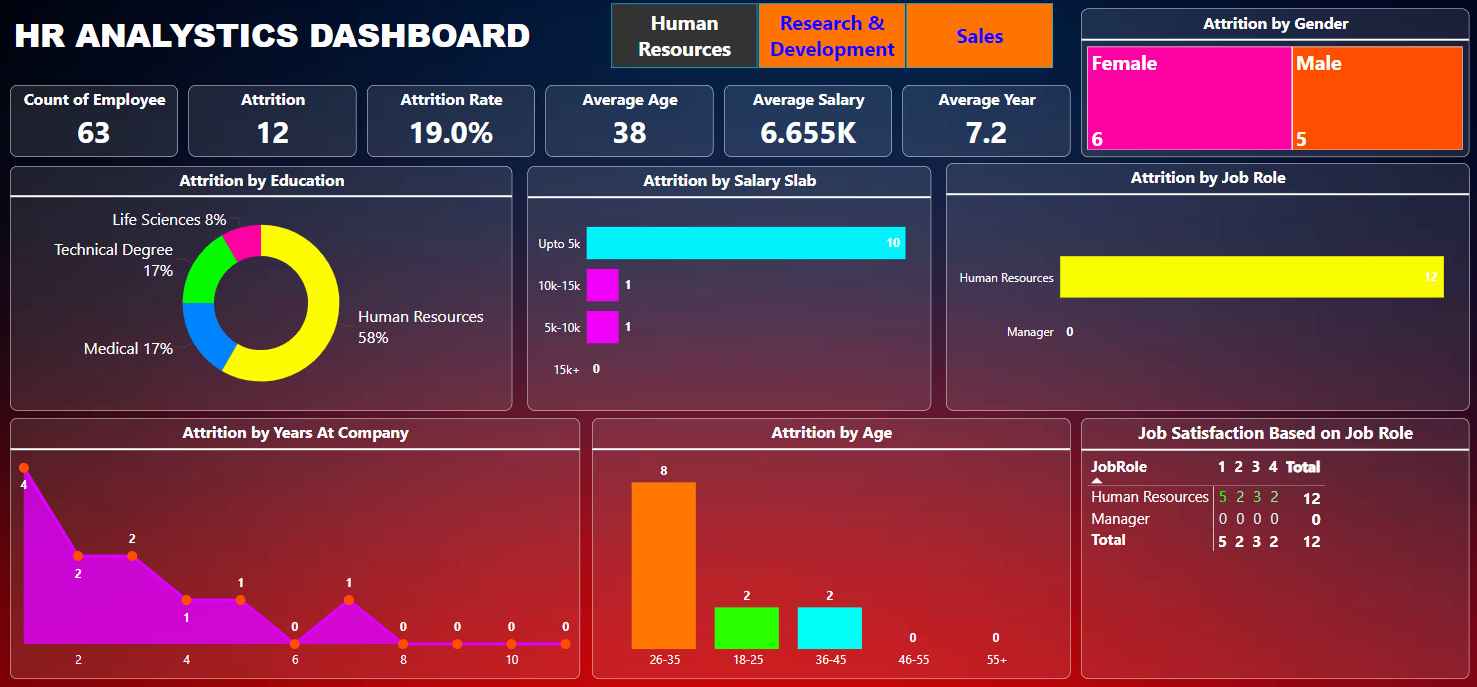

The page's visual inventory and layout, read from the dashboard file:
{"tool":"powerbi","page":{"name":"Page 1","canvas":[2000,930],"ordinal":0},"visuals":[{"type":"card","title":"Count of Employee","fields":{"Values":["Count(HR_Analytics.EmpID)"]},"box":[20.2,117.1,226.1,96.9],"z":0},{"type":"card","title":"Attrition ","fields":{"Values":["Sum(HR_Analytics.AttritionCount)"]},"box":[260.4,117.1,226.1,96.9],"z":1000},{"type":"card","title":"Attrition Rate","fields":{"Values":["HR_Analytics.attrition_rate"]},"box":[500.7,117.1,226.1,96.9],"z":2000},{"type":"card","title":"Average Age","fields":{"Values":["Avg(HR_Analytics.Age)"]},"box":[740.9,117.1,226.1,96.9],"z":3000},{"type":"card","title":"Average Salary","fields":{"Values":["Avg(HR_Analytics.MonthlyIncome)"]},"box":[981.2,117.1,226.1,96.9],"z":4000},{"type":"card","title":"Average Year","fields":{"Values":["Avg(HR_Analytics.YearsAtCompany)"]},"box":[1221.4,117.1,226.1,96.9],"z":5000},{"type":"slicer","title":"Department","fields":{"Values":["HR_Analytics.Department"]},"box":[803.5,0,644,100.9],"z":6000},{"type":"textbox","box":[20.2,14.1,720.7,78.7],"z":7000},{"type":"treemap","title":"Attrition by Gender","fields":{"Group":["HR_Analytics.Gender"],"Values":["Sum(HR_Analytics.AttritionCount)"]},"box":[1461.7,14.1,522.9,199.9],"z":8000},{"type":"donutChart","title":"Attrition by Education","fields":{"Category":["HR_Analytics.EducationField"],"Y":["Sum(HR_Analytics.AttritionCount)"]},"box":[20.2,226.1,676.3,329.1],"z":9000},{"type":"pivotTable","title":"Job Satisfaction Based on Job Role","fields":{"Rows":["HR_Analytics.JobRole"],"Columns":["HR_Analytics.JobSatisfaction"],"Values":["Sum(HR_Analytics.AttritionCount)"]},"box":[1461.7,565.3,522.9,351.3],"z":10000},{"type":"areaChart","title":"Attrition by Years At Company","fields":{"Category":["HR_Analytics.YearsAtCompany"],"Y":["Sum(HR_Analytics.AttritionCount)"]},"box":[20.2,565.3,767.2,351.3],"z":11000},{"type":"columnChart","title":"Attrition by Age","fields":{"Category":["HR_Analytics.AgeGroup"],"Y":["Sum(HR_Analytics.AttritionCount)"]},"box":[803.5,565.3,644,351.3],"z":12000},{"type":"barChart","title":"Attrition by Salary Slab","fields":{"Category":["HR_Analytics.SalarySlab"],"Y":["Sum(HR_Analytics.AttritionCount)"]},"box":[716.7,226.1,543.1,329.1],"z":13000},{"type":"barChart","title":"Attrition by Job Role","fields":{"Y":["Sum(HR_Analytics.AttritionCount)"],"Category":["HR_Analytics.JobRole"]},"box":[1280,222.1,704.6,333.1],"z":14000}]}

Visuals, with their boxes in screenshot pixels (x1, y1, x2, y2), scaled from the page's 2000x930 canvas onto the 1477x687 screenshot:
"Count of Employee" card: box=[15, 87, 182, 158]
"Attrition " card: box=[192, 87, 359, 158]
"Attrition Rate" card: box=[370, 87, 537, 158]
"Average Age" card: box=[547, 87, 714, 158]
"Average Salary" card: box=[725, 87, 892, 158]
"Average Year" card: box=[902, 87, 1069, 158]
"Department" slicer: box=[593, 0, 1069, 75]
textbox: box=[15, 10, 547, 69]
"Attrition by Gender" treemap: box=[1079, 10, 1466, 158]
"Attrition by Education" donutChart: box=[15, 167, 514, 410]
"Job Satisfaction Based on Job Role" pivotTable: box=[1079, 418, 1466, 677]
"Attrition by Years At Company" areaChart: box=[15, 418, 581, 677]
"Attrition by Age" columnChart: box=[593, 418, 1069, 677]
"Attrition by Salary Slab" barChart: box=[529, 167, 930, 410]
"Attrition by Job Role" barChart: box=[945, 164, 1466, 410]
